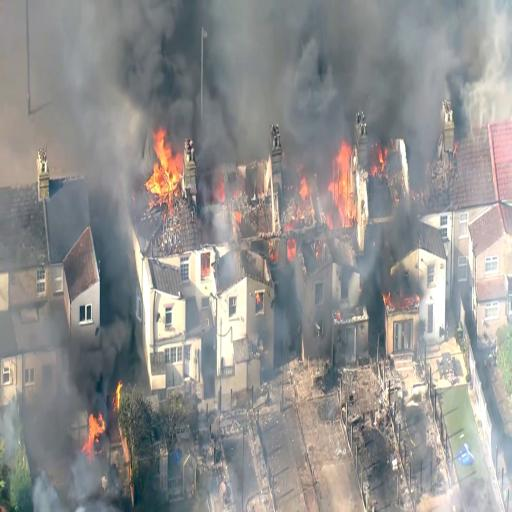fire: (327, 144, 360, 230), (146, 128, 180, 197)
smoke: (243, 0, 342, 117)
